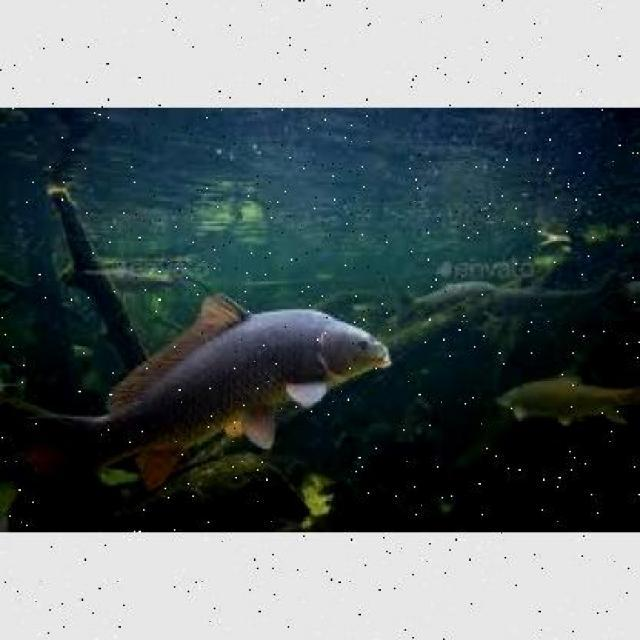ikan-mas: (0, 286, 391, 525)
